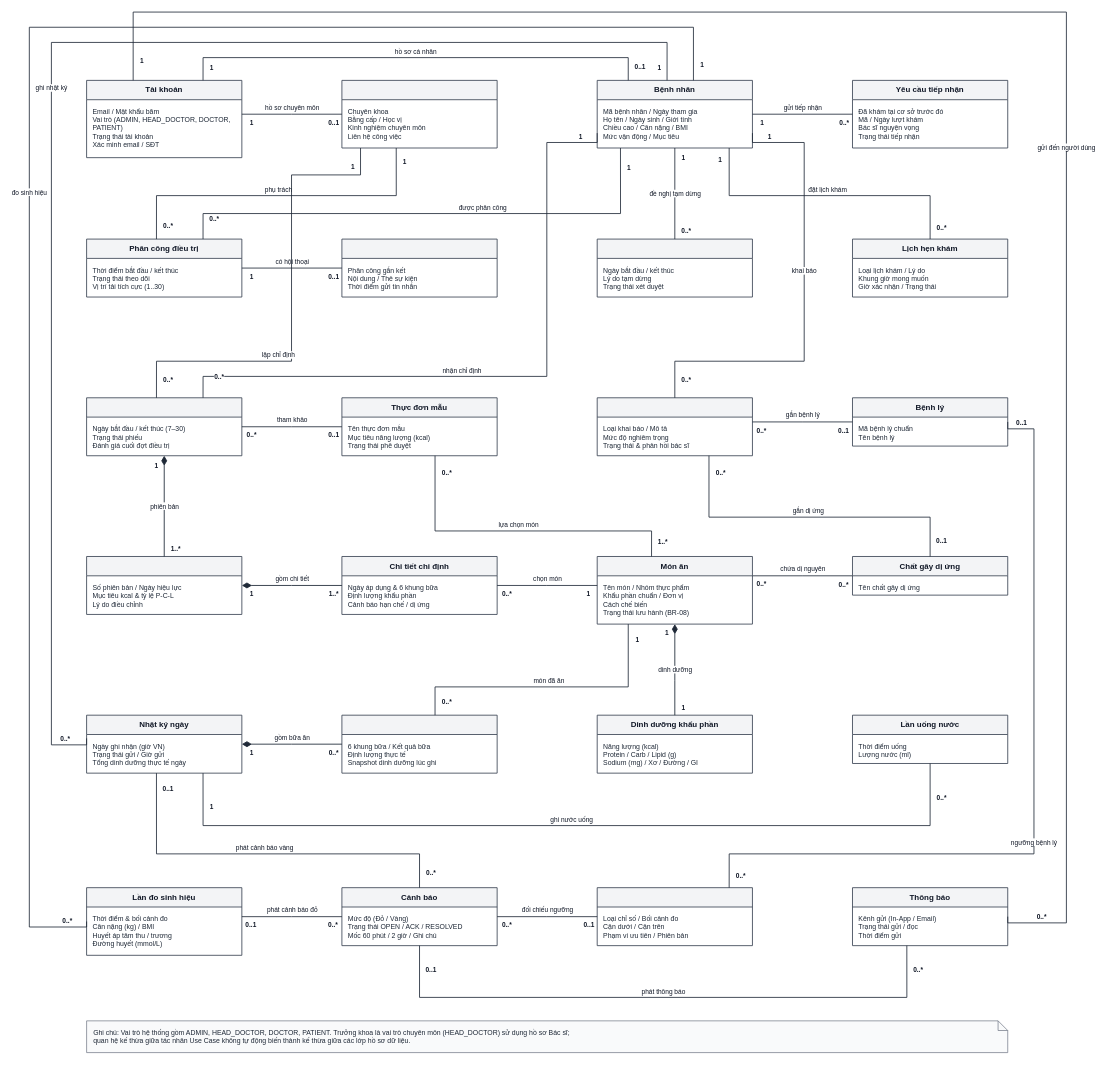
The diagram is 1107 pixels wide and 1065 high, and some of its shapes have lost their labels. Here are the shapes that lost their labels. From the top down, the box of each, then its label:
(341, 80, 497, 148): Bác sĩ
(341, 238, 497, 297): Hội thoại tư vấn
(596, 238, 753, 297): Tạm dừng theo dõi
(86, 397, 242, 456): Phiếu chỉ định
(596, 397, 753, 456): Khai báo bệnh lý & dị ứng
(86, 556, 242, 615): Phiên bản chỉ định
(341, 714, 497, 773): Chi tiết bữa ăn
(596, 887, 753, 946): Ngưỡng cảnh báo
